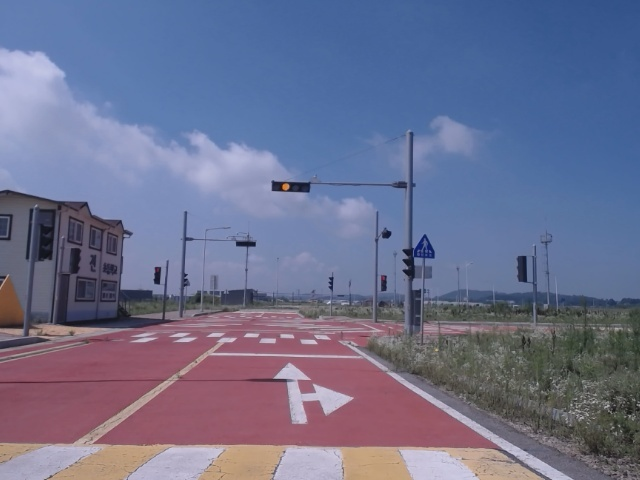orange_4: (271, 179, 311, 194)
